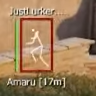hacks_3: (7, 7, 66, 88)
